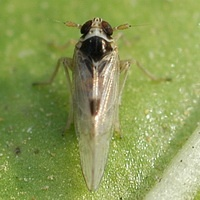insect: (33, 18, 165, 190)
